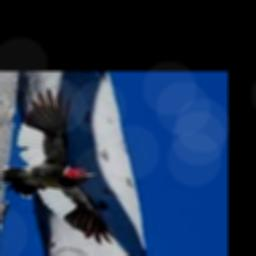Woodpecker: (0, 89, 114, 245)
